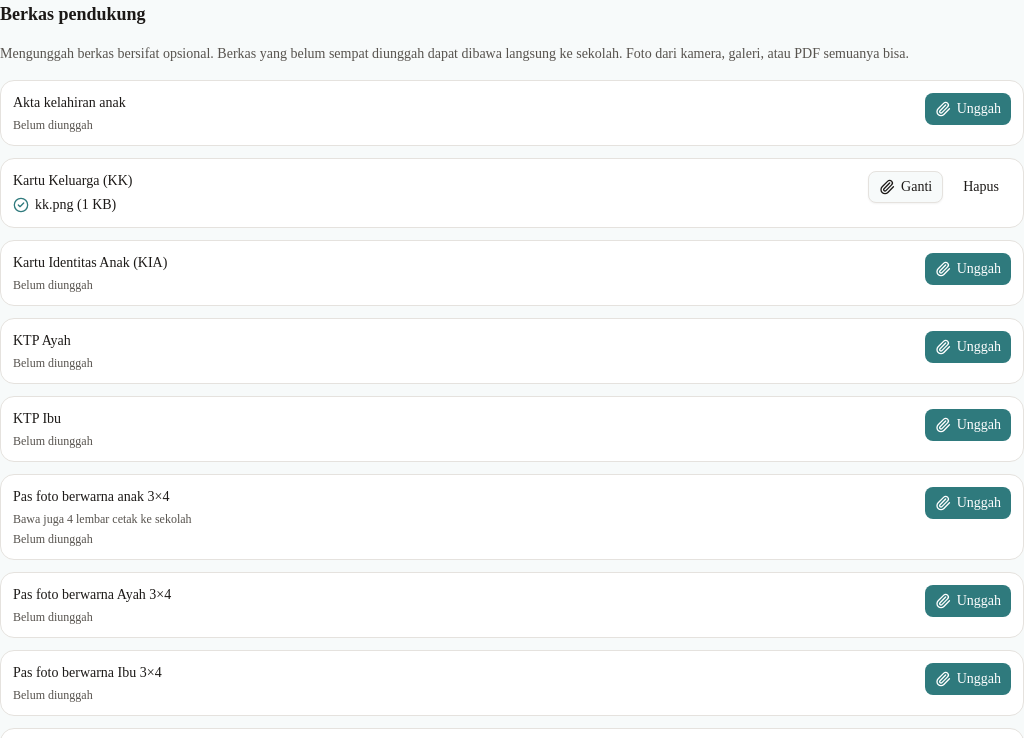
Scenario: DocumentsStep › deletes with DELETE on the same URL and clears the row
Expected: the text "kk.png (1 KB)" is shown, [35,195,116,215]
Click the button with aria-label "Hapus Kartu Keluarga (KK)" at [981, 187], box [951,171,1011,203]
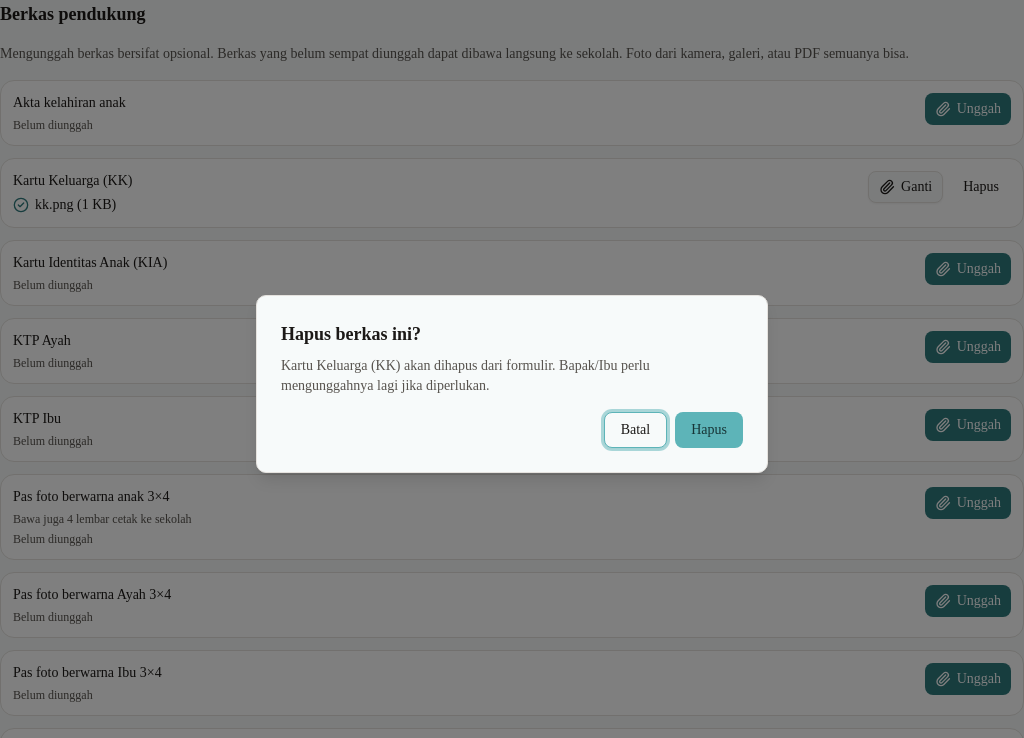
Now the heading "Hapus berkas ini?" is shown, box [281,324,421,344]
Now the text "Kartu Keluarga (KK) akan dihapus dari formulir. Bapak/Ibu perlu mengunggahnya lagi jika diperlukan." is shown, box [281,358,650,393]
Click the button "Hapus" at [709, 430], box [675,412,743,448]
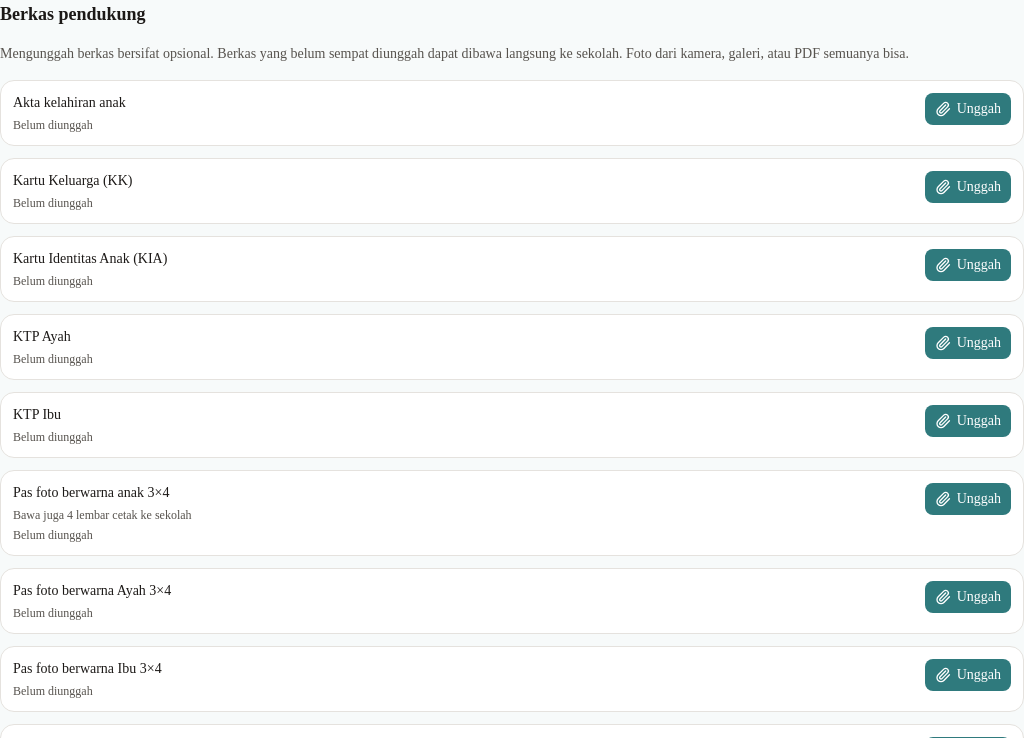
Now the text "kk.png" is gone
